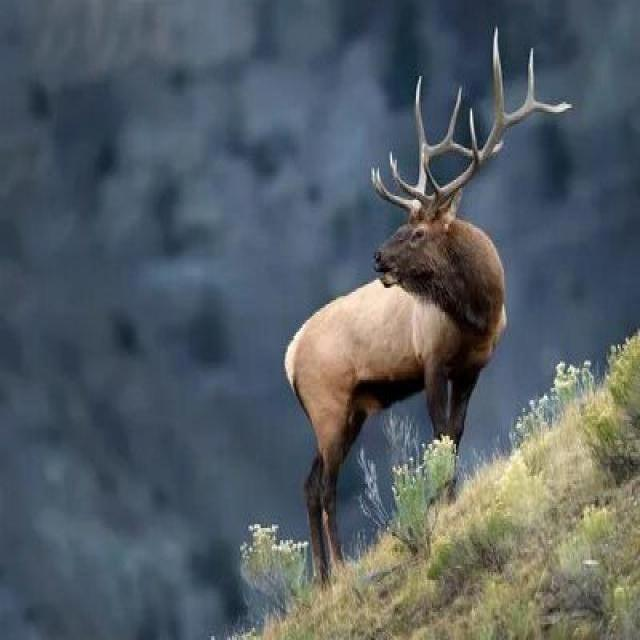deer: (199, 38, 608, 547)
